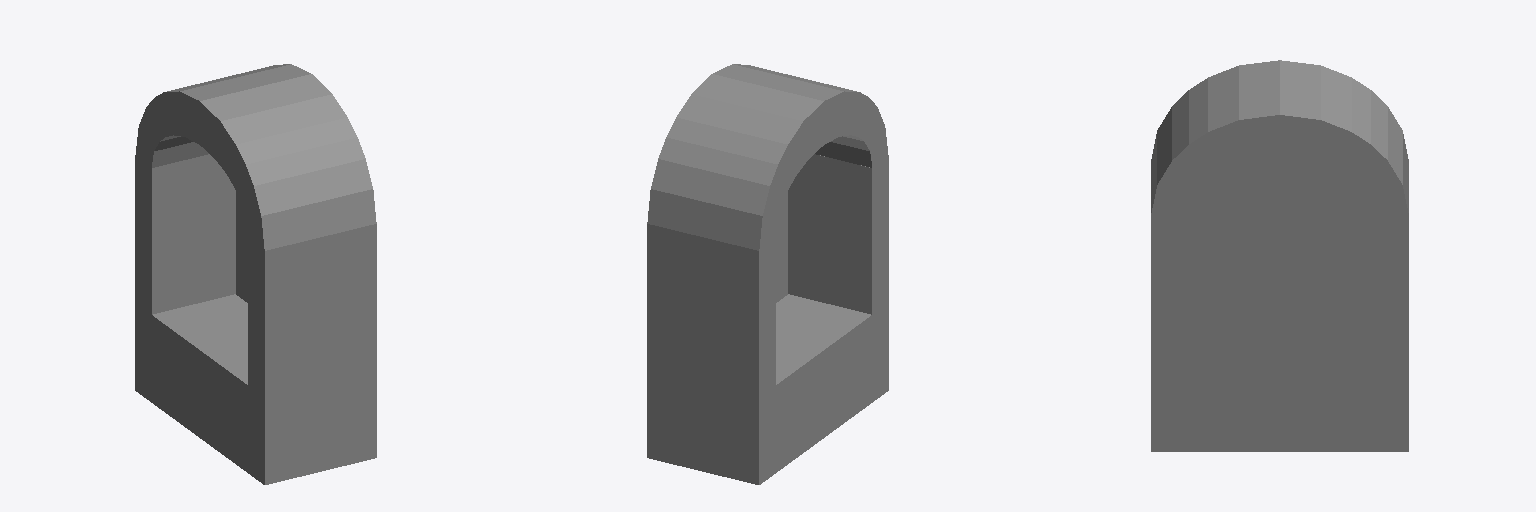
Rendered from shrine.obj.
3 views of the same model, side by side, from view 1: azimuth 30°, elevation 25°; view 2: azimuth 150°, elevation 25°; view 3: azimuth 270°, elevation 25° (orthographic).
Parts seen in each view (by area): view 1: Union1; view 2: Union1; view 3: Union1.
Boxes of the visible parts, x1=… form: Union1: x1=135, y1=64, x2=376, y2=484; Union1: x1=647, y1=64, x2=888, y2=484; Union1: x1=1151, y1=60, x2=1408, y2=451.
Bounding box in the file's own units: 8 × 23 × 16.